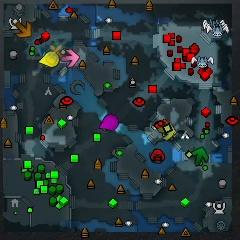Other: (46, 42, 64, 54)
p3: (100, 114, 119, 131)
p4: (37, 51, 60, 67)
x1: (61, 49, 79, 67)
x2: (159, 124, 177, 140)
x4: (191, 147, 208, 165)
x5: (15, 21, 32, 38)
